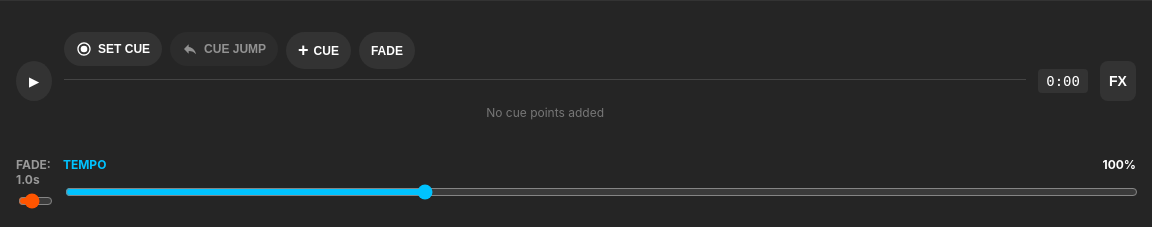
it: ControlButtons Component › should update fade duration when slider is changed
// Change the value
Set the slider below "1.0" to "2.5" at (42, 201), box [18,193,53,209]
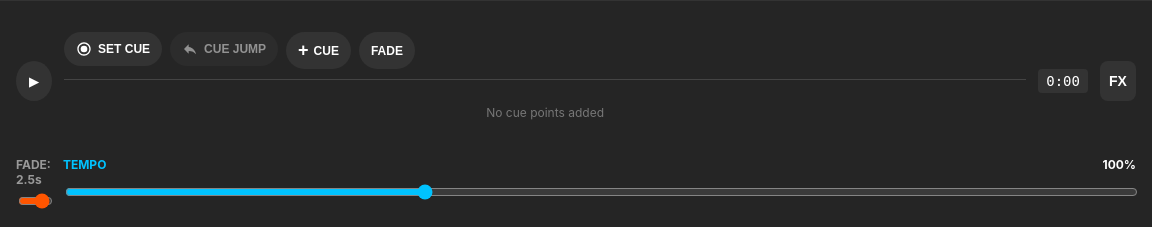
Check: the text "FADE: 2.5s" is shown, box [16,157,51,187]
